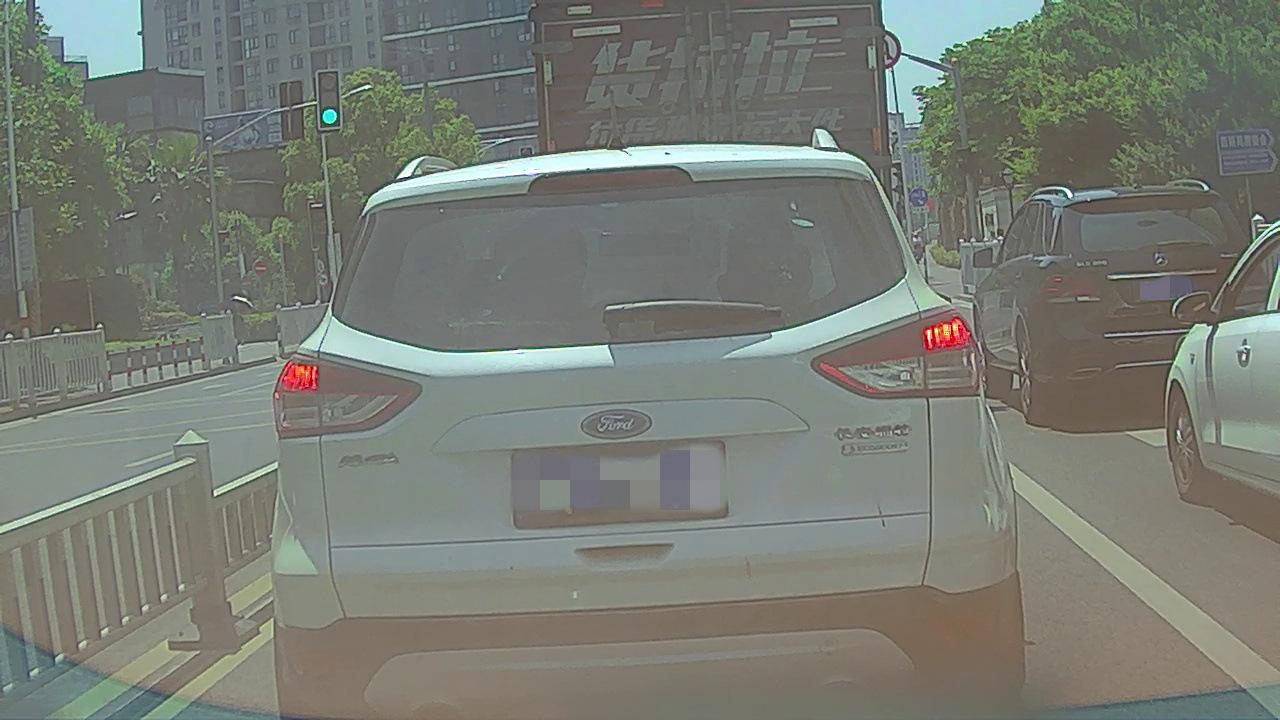traffic_light: (318, 71, 340, 128)
